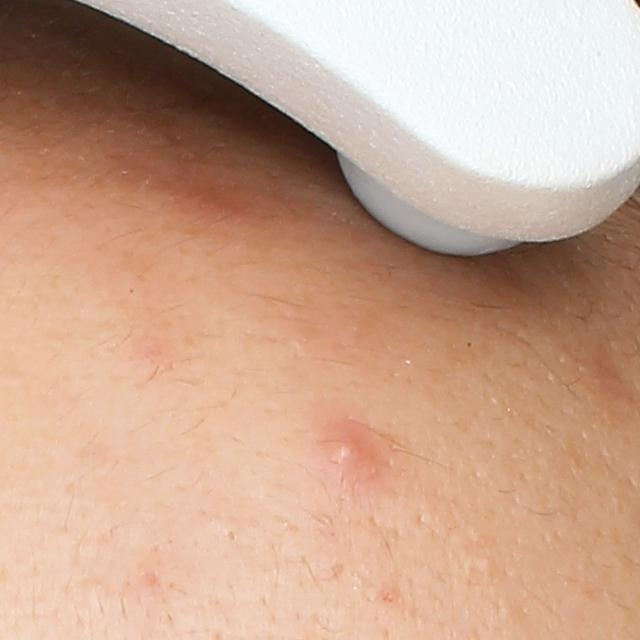comedo: (225, 528, 240, 544)
